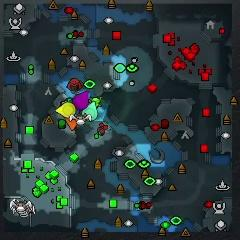p2: (82, 101, 98, 122)
p3: (73, 90, 89, 110)
p4: (55, 102, 75, 117)
p5: (66, 118, 78, 131)
